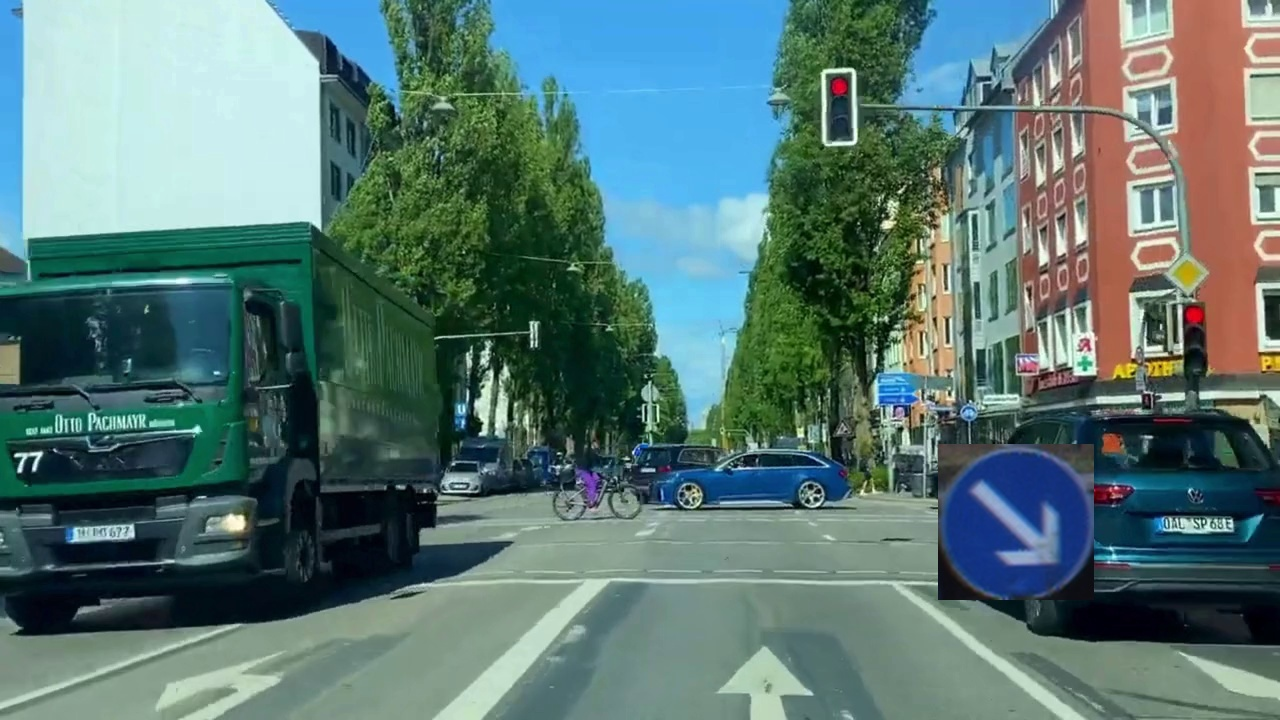Keep right: (938, 444, 1094, 600)
